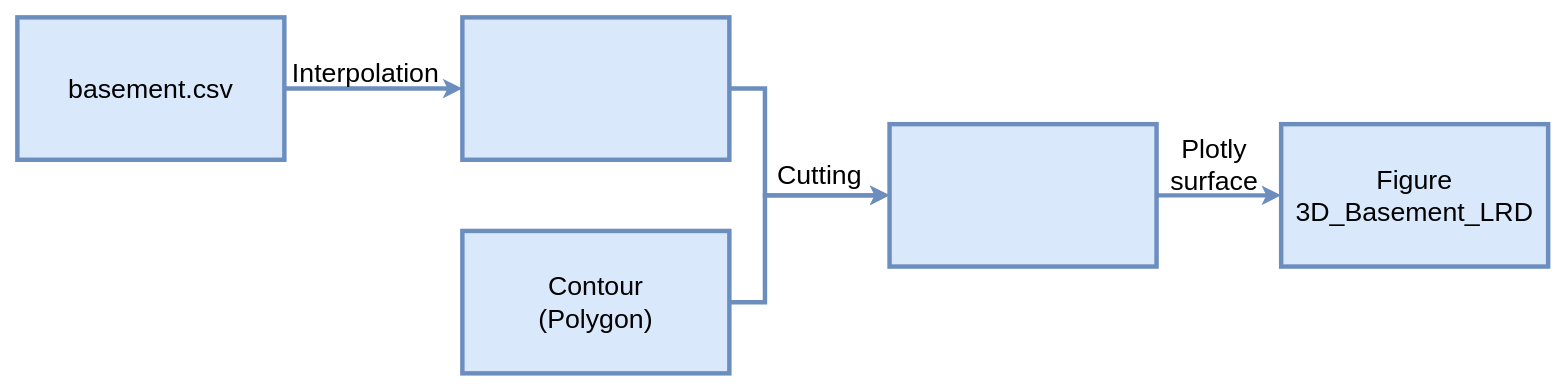
This 1566x391 diagram has some shape labels left out. Each missing label, with the box of its shape:
Basement surface inside the delta contour: (887, 121, 1158, 268)
Interpolated basement points: (460, 15, 731, 162)
